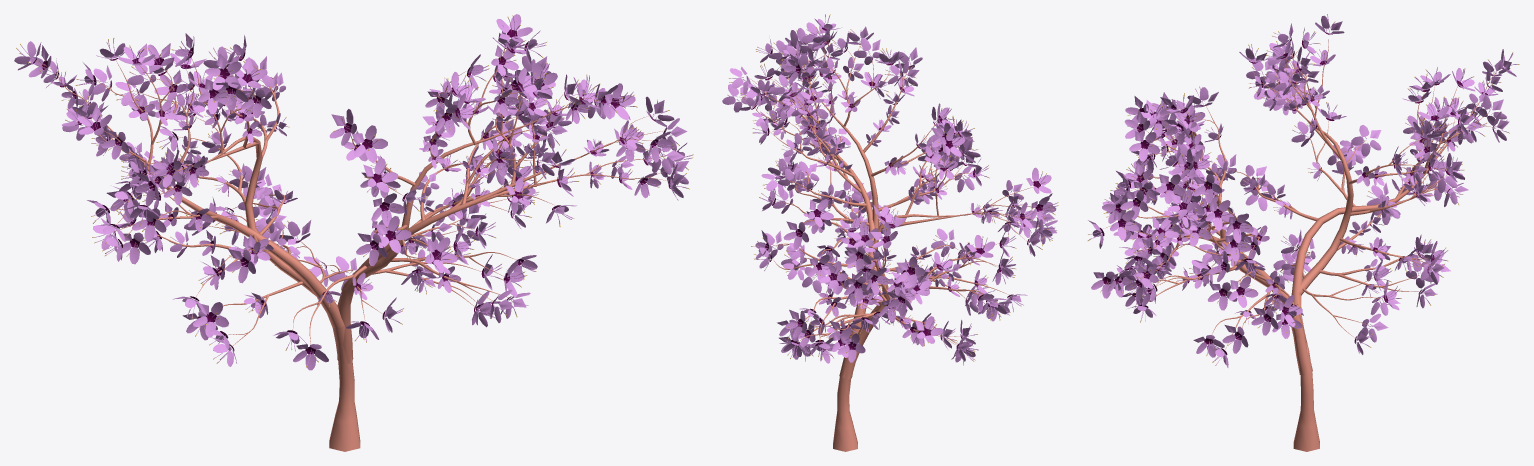
Rendered from noArm.fbx.
3 views of the same model, side by side, from view 1: azimuth 30°, elevation 25°; view 2: azimuth 150°, elevation 25°; view 3: azimuth 270°, elevation 25° (orthographic). The views are drawn at different scales.
Visible parts, largest first — view 1: Blossom.001, Blossom.002; view 2: Blossom.001, Blossom.002; view 3: Blossom.001, Blossom.002.
Boxes of the visible parts, x1=… form: Blossom.001: x1=14, y1=14, x2=693, y2=370; Blossom.002: x1=329, y1=323, x2=360, y2=451; Blossom.001: x1=722, y1=14, x2=1058, y2=365; Blossom.002: x1=833, y1=349, x2=859, y2=451; Blossom.001: x1=1088, y1=14, x2=1519, y2=367; Blossom.002: x1=1293, y1=335, x2=1319, y2=451.
Bounding box in the file's own units: 893 × 795 × 796.
